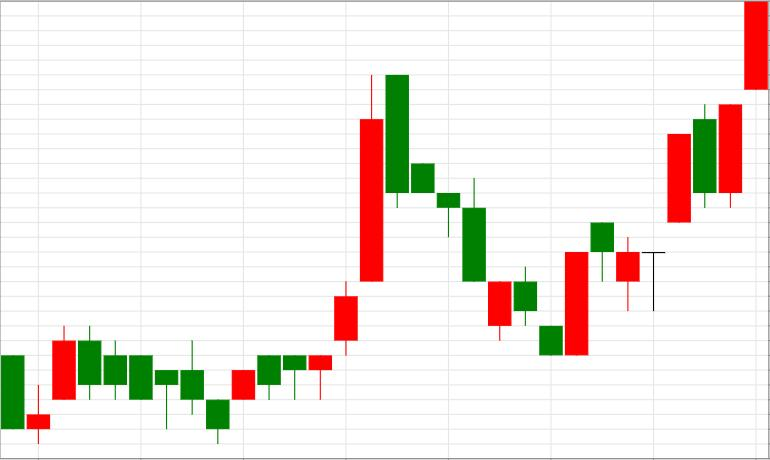bullish_engulfing_rise: (386, 74, 588, 356)
